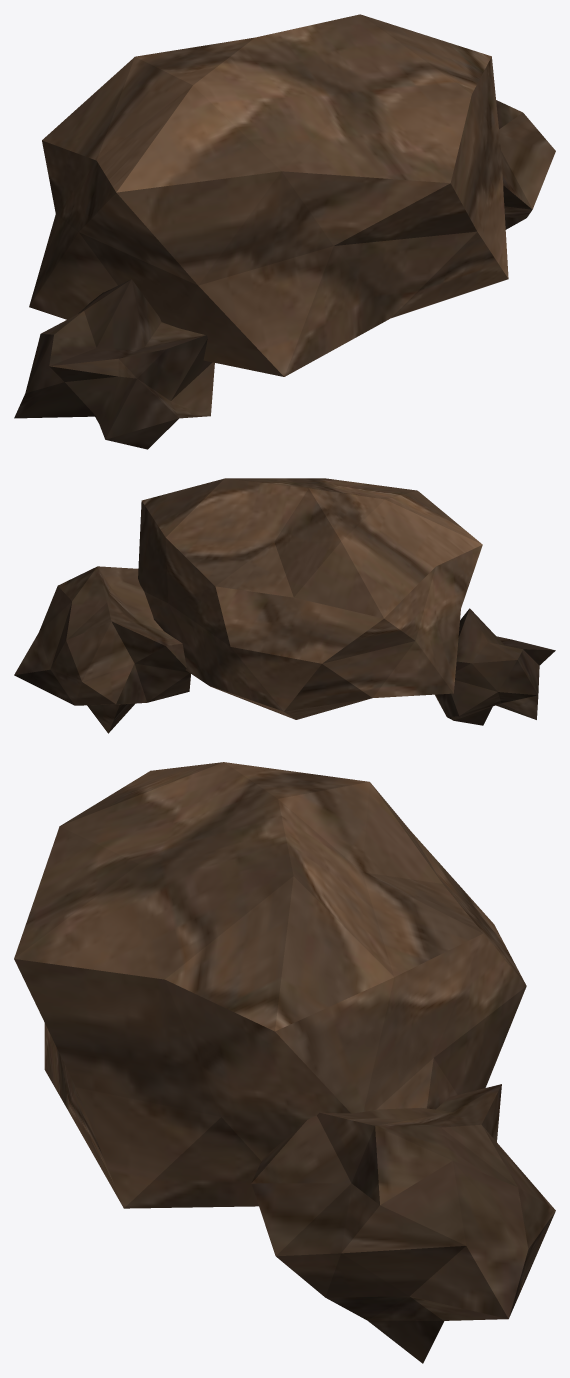
File: brown_rock.glb
The picture shows the model from 3 angles, top to bottom: view 1: azimuth 30°, elevation 25°; view 2: azimuth 150°, elevation 25°; view 3: azimuth 270°, elevation 25°; orthographic projection. The views are drawn at different scales.
Parts seen in each view (by area): view 1: model; view 2: model; view 3: model.
Part boxes in pixels (<box>): model: <box>14,14,555,449</box>; model: <box>14,478,555,733</box>; model: <box>14,762,555,1363</box>.
Size of the model in its own units: 0.3891 by 0.2169 by 0.2461.
Materials: 3 (3 with a texture image).
